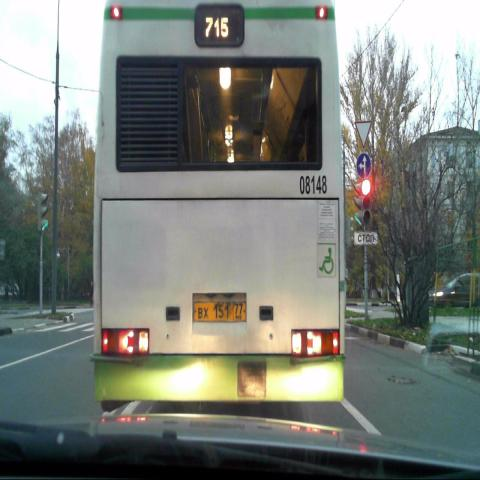4_1_5: (356, 153, 371, 177)
6_16: (354, 231, 377, 245)
